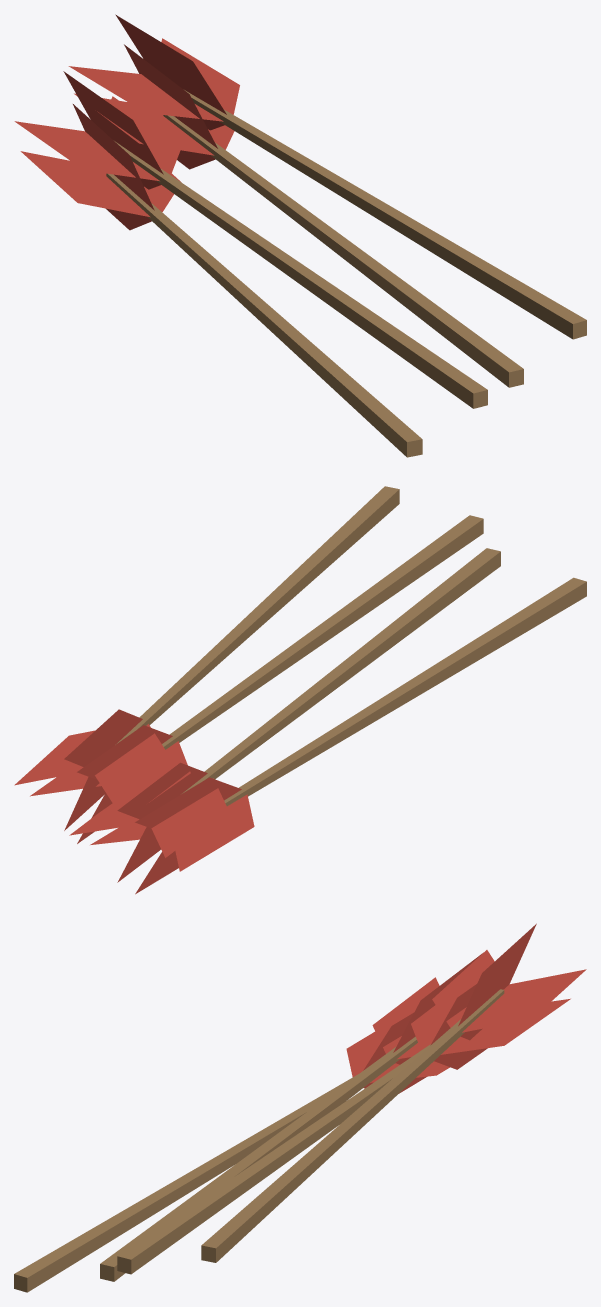
File: HeadlessArrowStack4.glb
The picture shows the model from 3 angles, top to bottom: view 1: azimuth 30°, elevation 25°; view 2: azimuth 150°, elevation 25°; view 3: azimuth 330°, elevation 25°; orthographic projection. The views are drawn at different scales.
Visible parts, largest first — view 1: HeadlessArrowStack4; view 2: HeadlessArrowStack4; view 3: HeadlessArrowStack4.
Part boxes in pixels (left/top/right/bottom): HeadlessArrowStack4: left=14, top=14, right=586, bottom=457; HeadlessArrowStack4: left=14, top=486, right=586, bottom=894; HeadlessArrowStack4: left=14, top=923, right=586, bottom=1292.
Bounding box in the file's own units: 0.1749 × 0.1185 × 0.6544.
